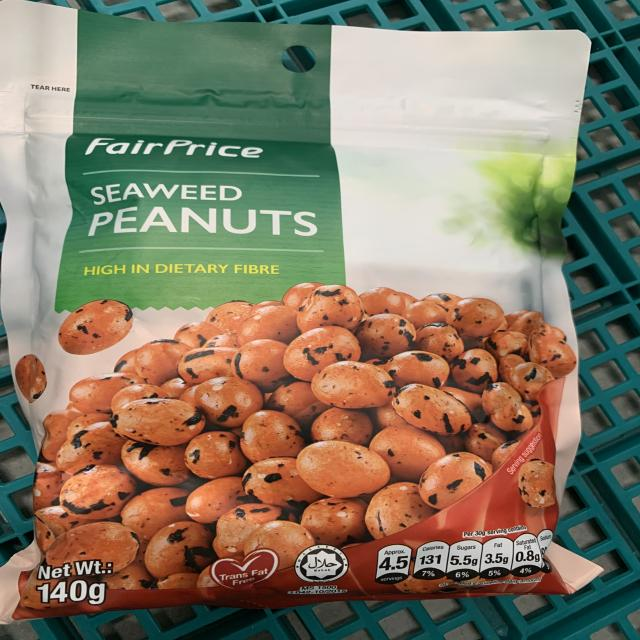object_name: (0, 10, 586, 601)
